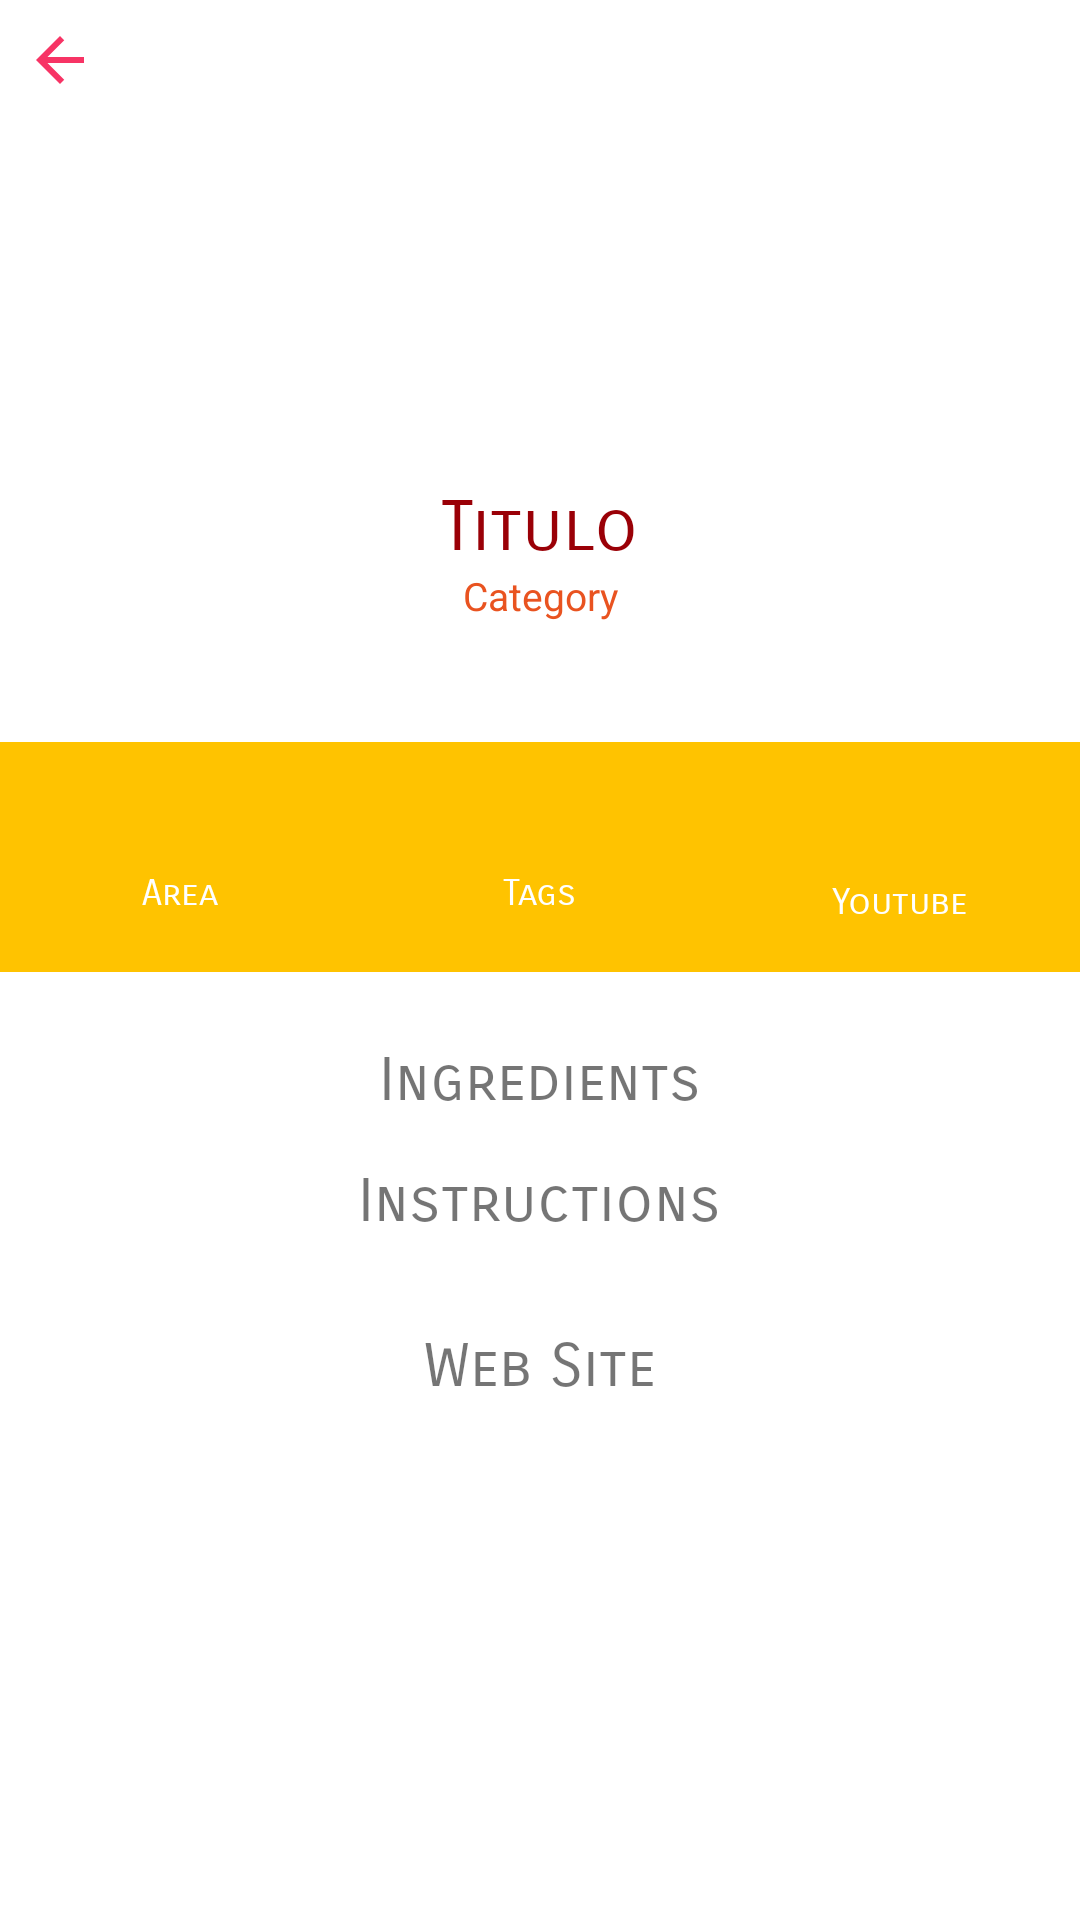

Icons on this 1080 x 1920 Android screen, each with its box as (x1, y1, x2, y2):
arrow back: (36, 36, 84, 84)
